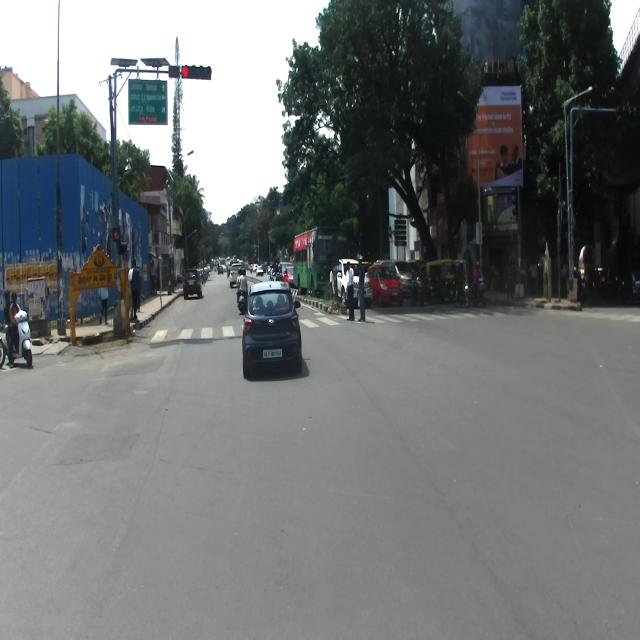car ahead at: (240, 281, 306, 382)
traffic signal ahead at: (162, 54, 220, 101)
